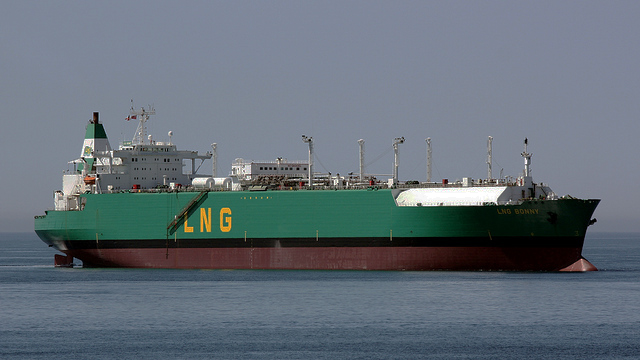LNG_ship: (33, 107, 606, 276)
